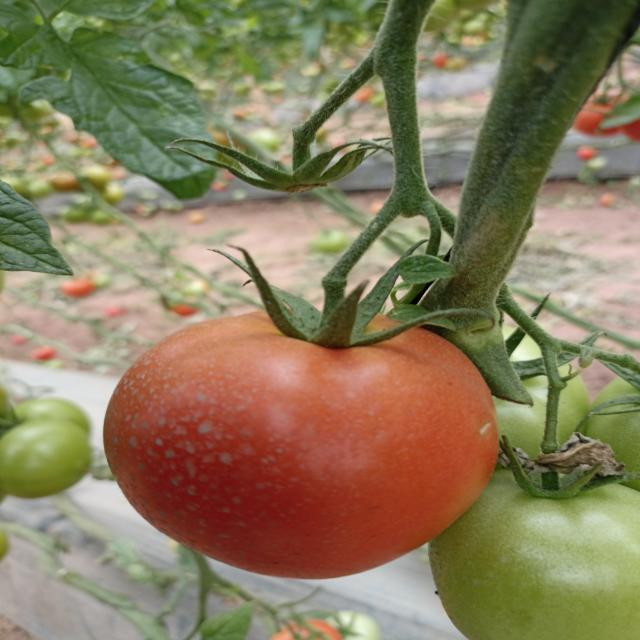Ripe Tomato: (105, 309, 501, 579)
Unripe Tomato: (424, 472, 640, 640)
